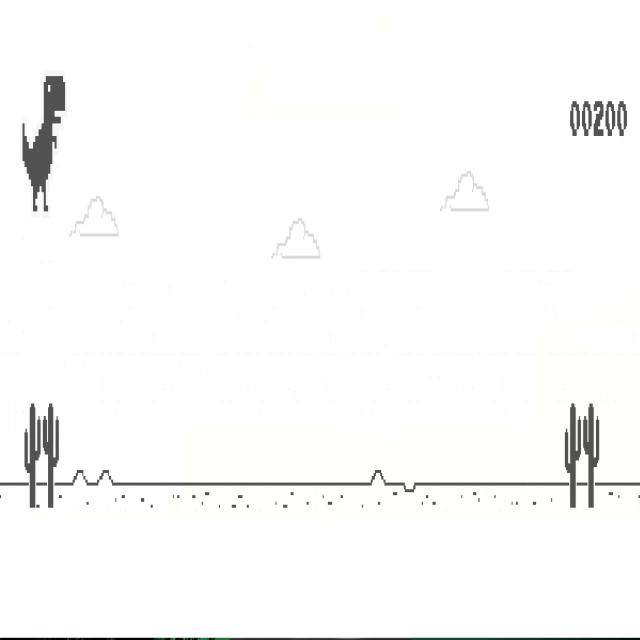cacto: (564, 402, 582, 510), (582, 402, 600, 509), (42, 402, 59, 509), (24, 402, 41, 508)
dino: (22, 74, 66, 213)
